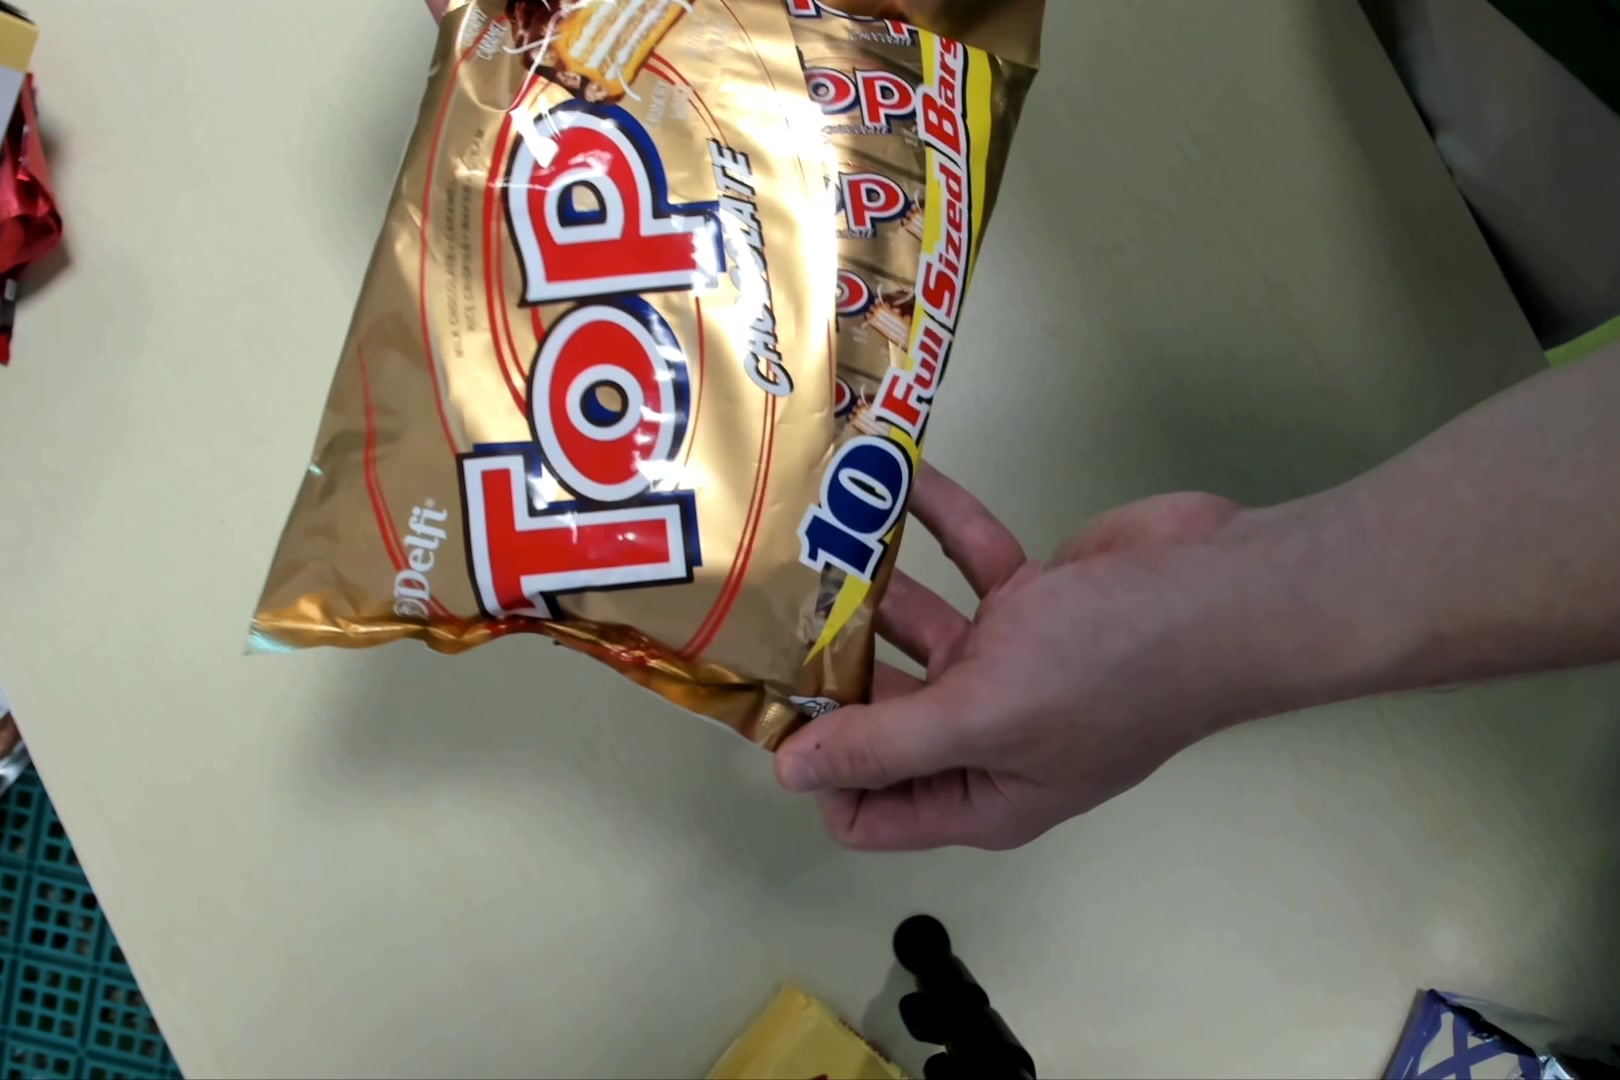SweetsChocolatesOthers_100-199g_NonHalal_NonHealthy: (254, 10, 1038, 768)
